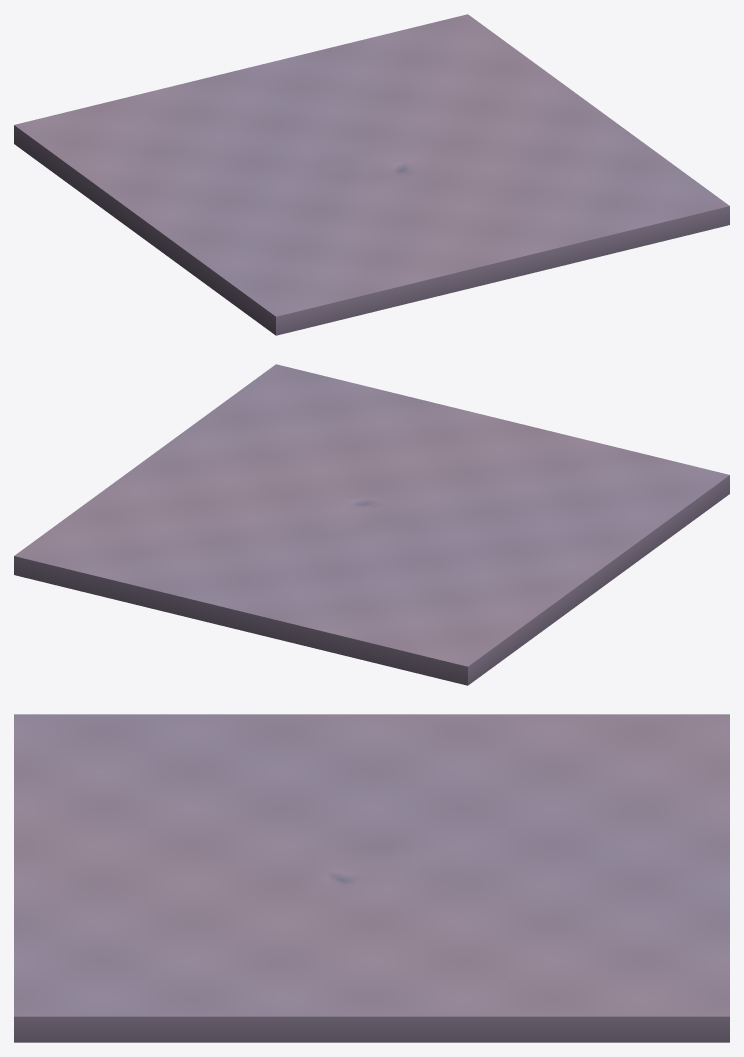
The model's file is far.glb.
3 views of the same model, one above another, from view 1: azimuth 30°, elevation 25°; view 2: azimuth 150°, elevation 25°; view 3: azimuth 270°, elevation 25° (orthographic). The views are drawn at different scales.
Parts seen in each view (by area): view 1: far-proxy; view 2: far-proxy; view 3: far-proxy.
Part boxes in pixels (bbox=[...]): far-proxy: bbox=[14, 14, 729, 335]; far-proxy: bbox=[14, 364, 729, 685]; far-proxy: bbox=[14, 714, 729, 1042].
Size of the model in its own units: 500 by 20.5 by 500.
